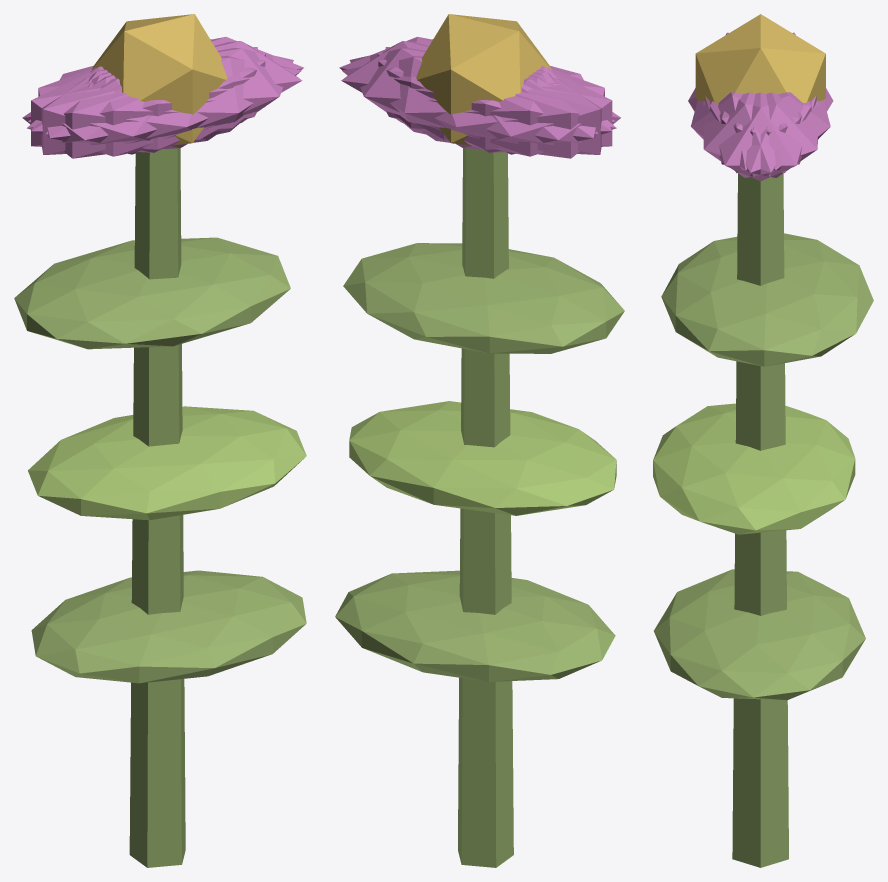
Rendered from centrosema-pubescens.glb.
The picture shows the model from 3 angles, left to right: view 1: azimuth 30°, elevation 25°; view 2: azimuth 150°, elevation 25°; view 3: azimuth 270°, elevation 25°; orthographic projection.
Visible parts, largest first — view 1: stem, leaf1, leaf0, leaf2, center, petal1, petal6, petal2, petal5, petal7, petal0, petal4 (+2 smaller); view 2: stem, leaf2, leaf0, leaf1, center, petal8, petal3, petal7, petal4, petal2, petal0, petal5 (+2 smaller); view 3: stem, leaf2, leaf0, leaf1, center, petal0, petal5, petal4, petal1, petal8.
Part boxes in pixels (x1,y1,x2,y2): stem: (129,148,185,867); leaf1: (28,406,306,520); leaf0: (31,570,306,683); leaf2: (14,237,290,349); center: (92,14,227,145); petal1: (27,55,301,156); petal6: (22,68,221,158); petal2: (41,47,257,154); petal5: (45,48,293,149); petal7: (31,52,265,152); petal0: (91,41,302,139); petal4: (28,37,303,131); stem: (458,148,513,867); leaf2: (343,243,624,353); leaf0: (335,570,615,681); leaf1: (349,401,616,515); center: (416,14,551,145); petal8: (342,55,616,156); petal3: (422,68,620,158); petal7: (385,47,601,154); petal4: (349,48,597,149); petal2: (377,52,612,152); petal0: (341,41,551,139); petal5: (339,36,615,131); stem: (732,173,788,867); leaf2: (661,233,873,366); leaf0: (654,569,865,700); leaf1: (653,403,855,534); center: (695,14,825,102); petal0: (705,92,816,181); petal5: (703,92,811,177); petal4: (710,92,818,177); petal1: (691,92,801,170); petal8: (719,92,830,170).
Bounding box in the file's own units: 0.1452 × 0.4277 × 0.1038.
